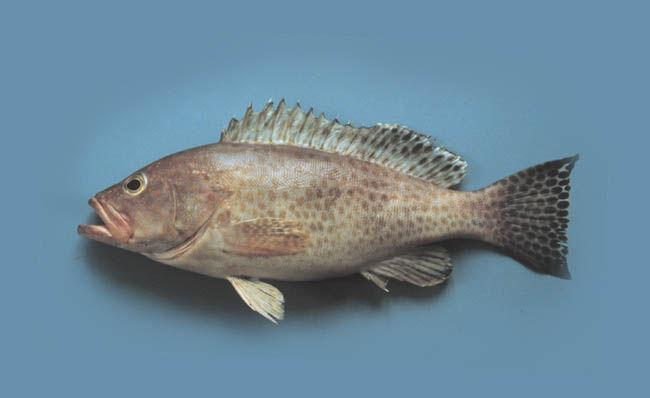fish: (78, 94, 583, 326)
